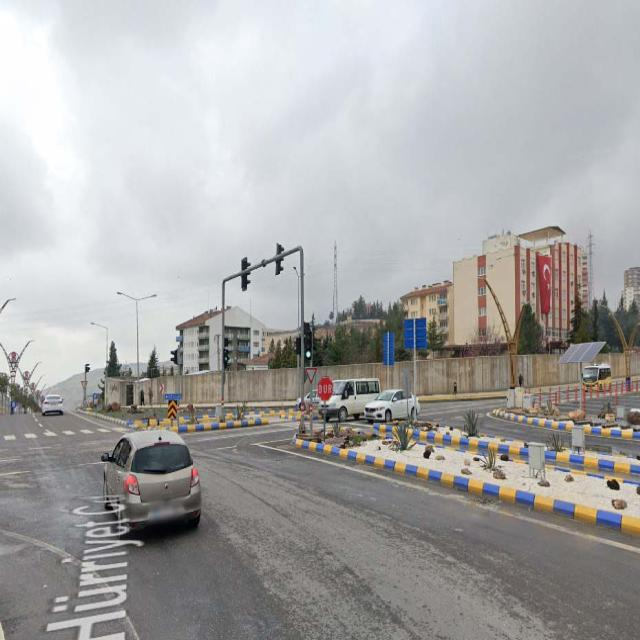dur: (318, 377, 332, 402)
yesil: (305, 332, 312, 358)
